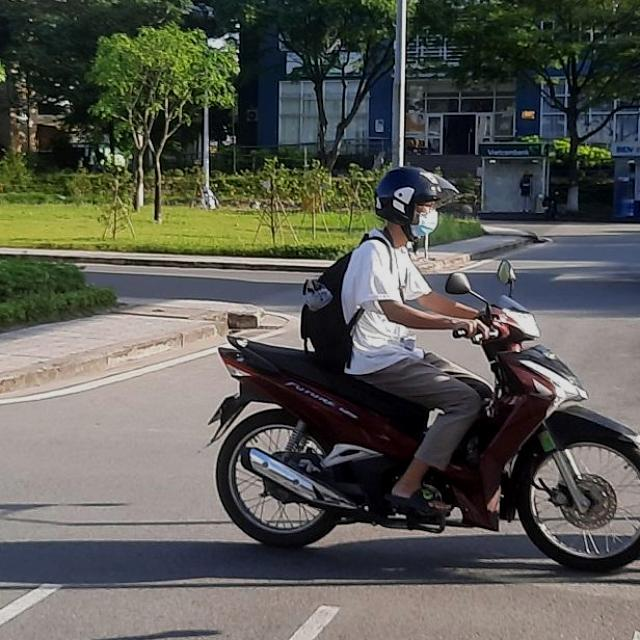Helmet: (372, 163, 458, 244)
